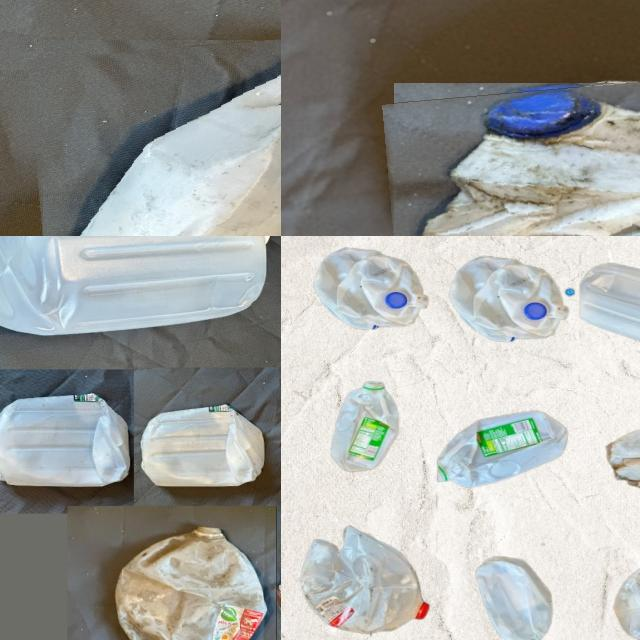milk-jug: (34, 29, 281, 236), (387, 71, 640, 236), (0, 236, 271, 333), (108, 528, 264, 640), (300, 528, 440, 636), (430, 400, 571, 490), (0, 389, 125, 488), (449, 250, 571, 348), (136, 404, 268, 489), (314, 246, 426, 336), (474, 554, 562, 640), (330, 379, 406, 475), (580, 260, 640, 358), (605, 421, 640, 504), (610, 553, 640, 640)
